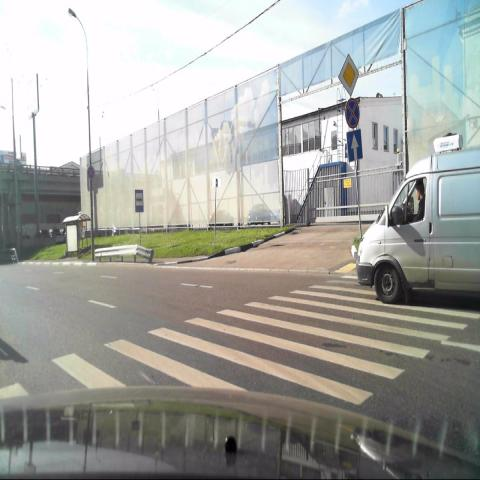5_5: (346, 129, 364, 162)
